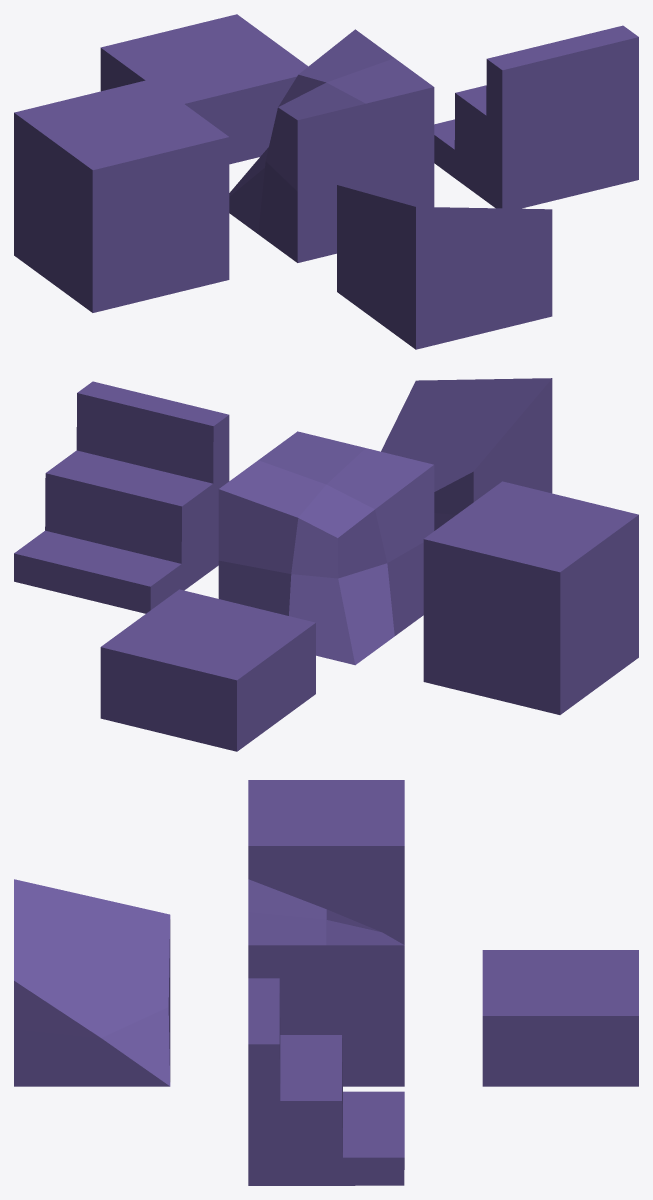
Rendered from blocks.glb.
3 renders of one model, top to bottom at view 1: azimuth 30°, elevation 25°; view 2: azimuth 150°, elevation 25°; view 3: azimuth 270°, elevation 25°, orthographic.
Visible parts, largest first — view 1: Cube.004, Cube, Cube.003, Cube.002, Cube.001; view 2: Cube.004, Cube, Cube.003, Cube.001, Cube.002; view 3: Cube.002, Cube.003, Cube.001, Cube, Cube.004.
Part boxes in pixels (x1,y1,x2,y2): Cube.004: (14,79,229,312); Cube: (229,29,434,262); Cube.003: (434,25,638,208); Cube.002: (337,185,552,349); Cube.001: (100,14,308,164); Cube.004: (423,481,638,714); Cube: (218,431,434,665); Cube.003: (14,381,229,613); Cube.001: (100,589,315,751); Cube.002: (381,378,552,530); Cube.002: (14,879,170,1086); Cube.003: (248,978,404,1185); Cube.001: (482,950,638,1086); Cube: (248,879,404,1086); Cube.004: (248,780,404,944).
Bounding box in the file's own units: 8 × 2 × 8.
